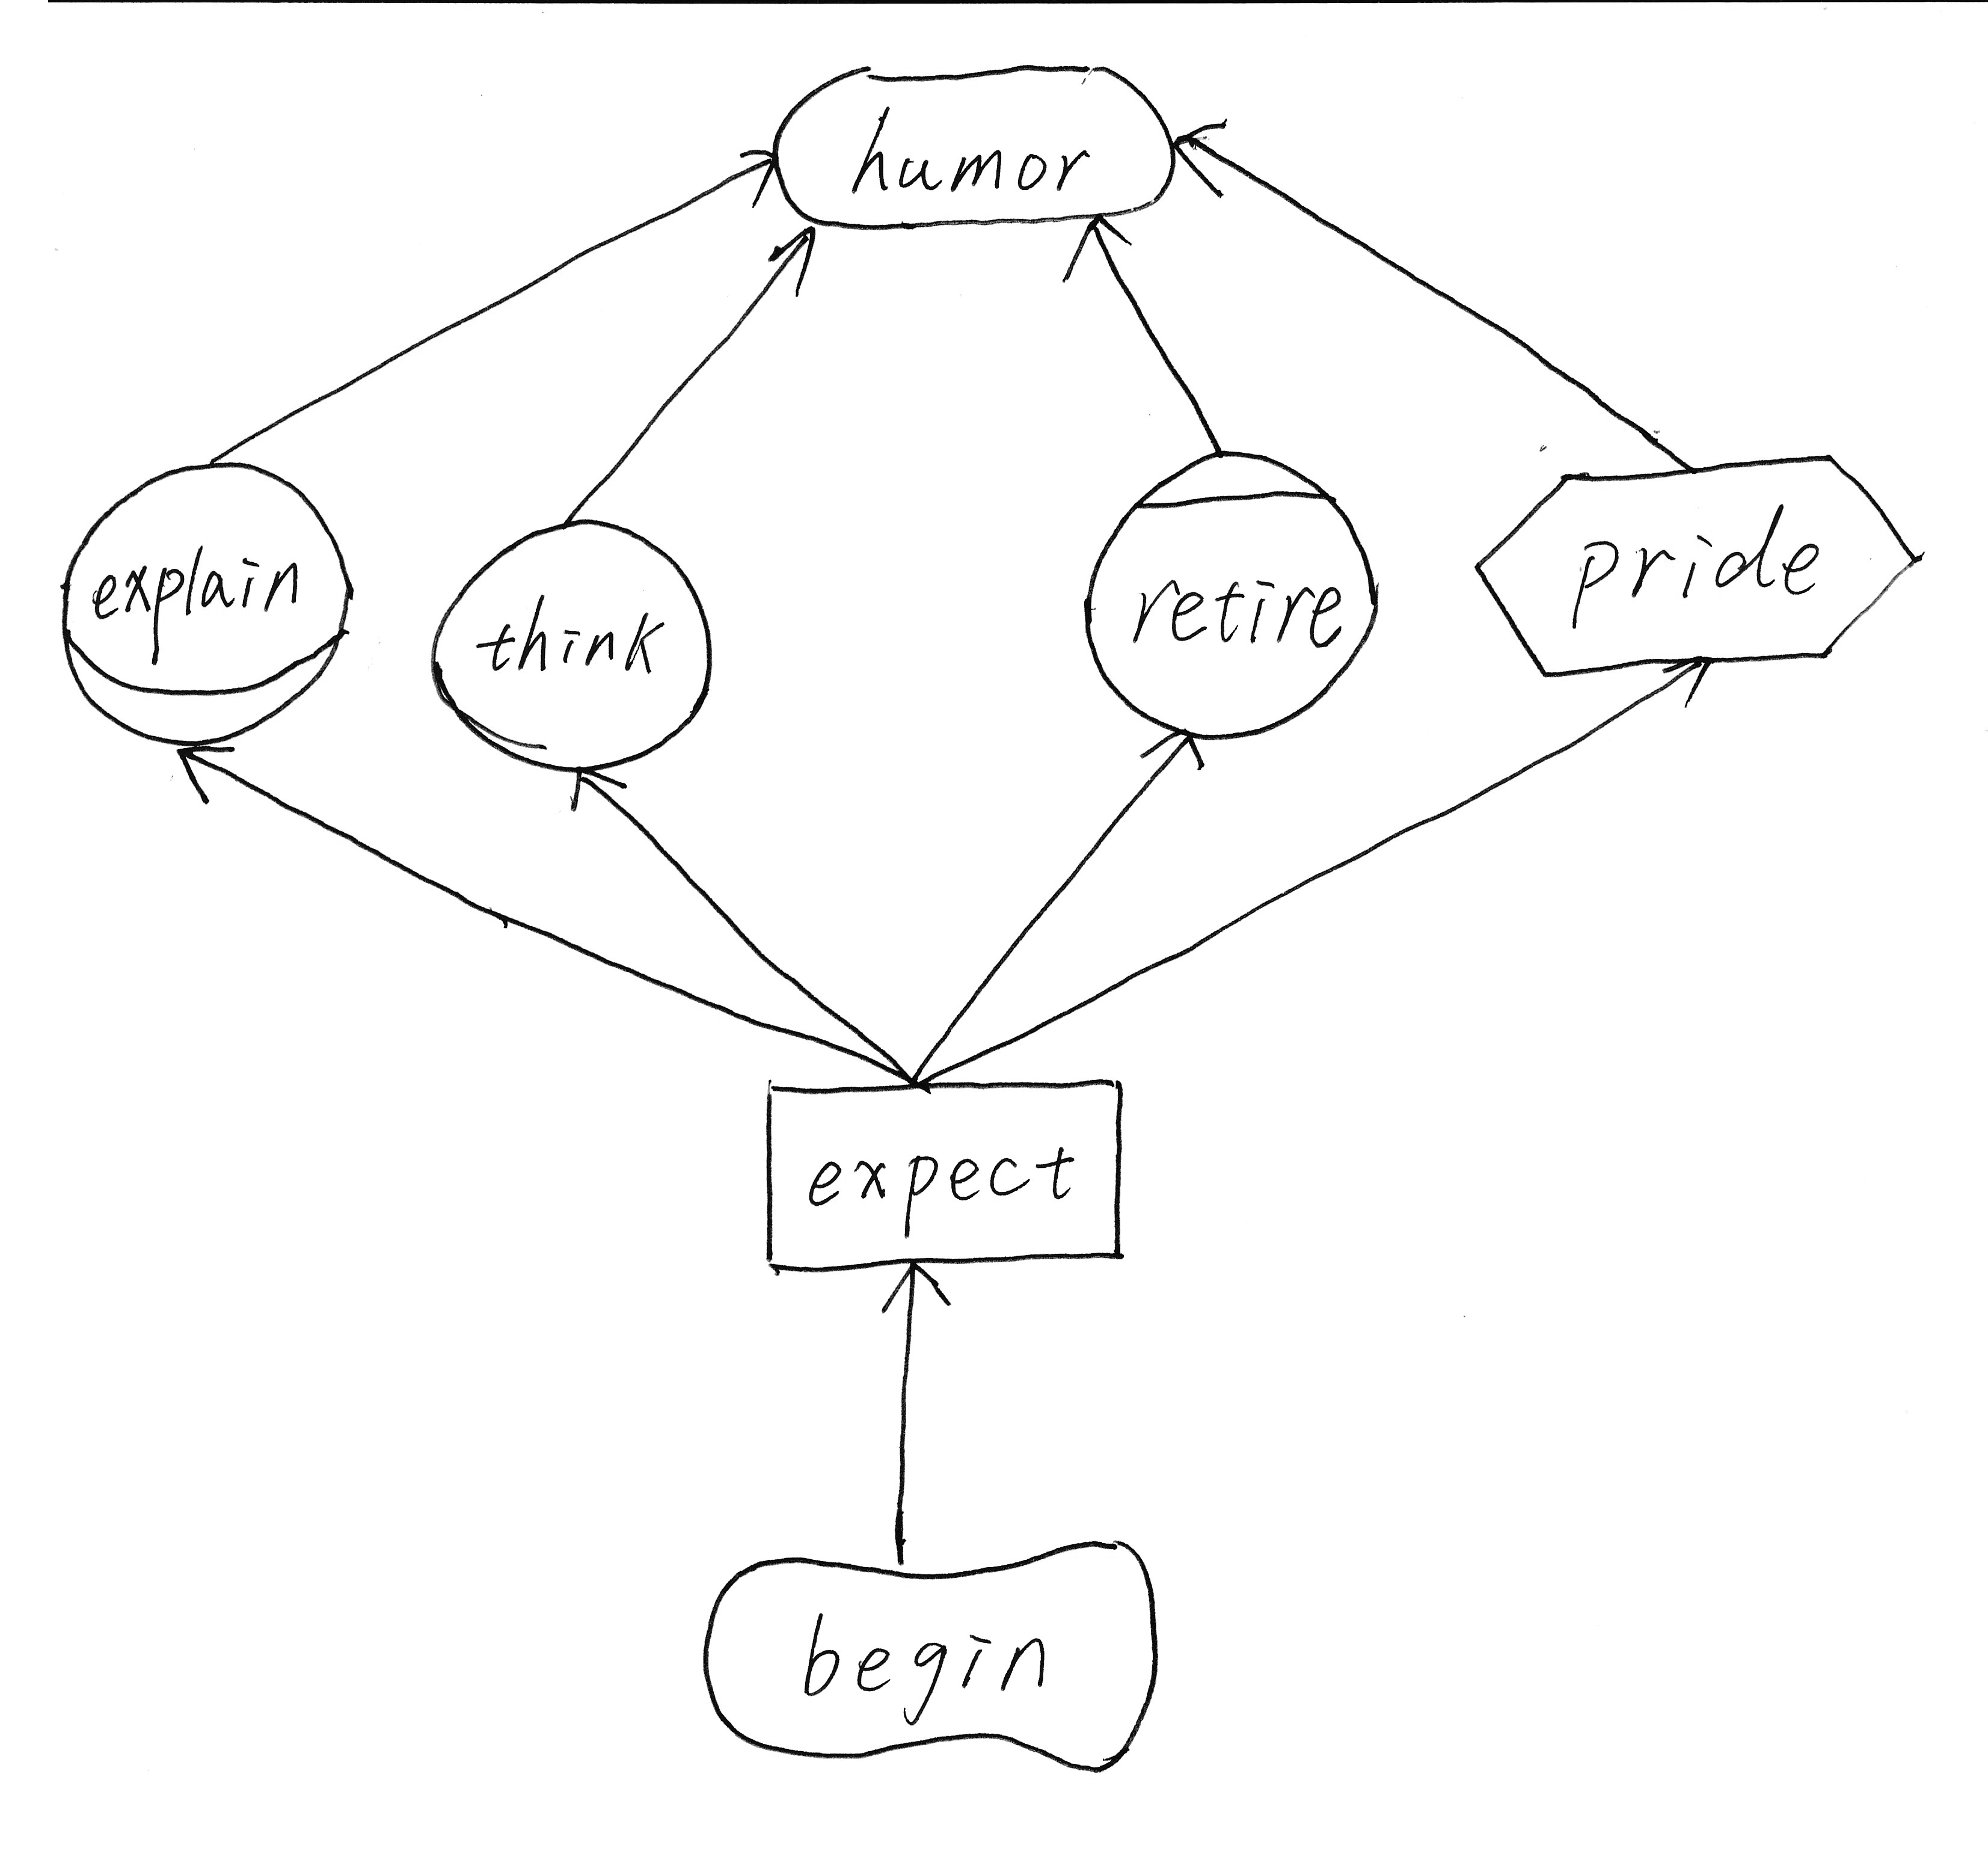actor: (407, 494, 749, 801)
agent: (1059, 424, 1393, 763)
arrow: (1155, 98, 1250, 206), (148, 726, 264, 810), (525, 747, 642, 826), (864, 1243, 965, 1325), (1051, 199, 1140, 290), (1634, 644, 1742, 712), (1128, 707, 1224, 782), (754, 216, 833, 295), (730, 124, 796, 206)
goal: (756, 40, 1203, 267)
quality: (675, 1520, 1182, 1792)
resource: (731, 1056, 1150, 1295)
role: (42, 442, 377, 764)
task: (1457, 433, 1951, 693)
